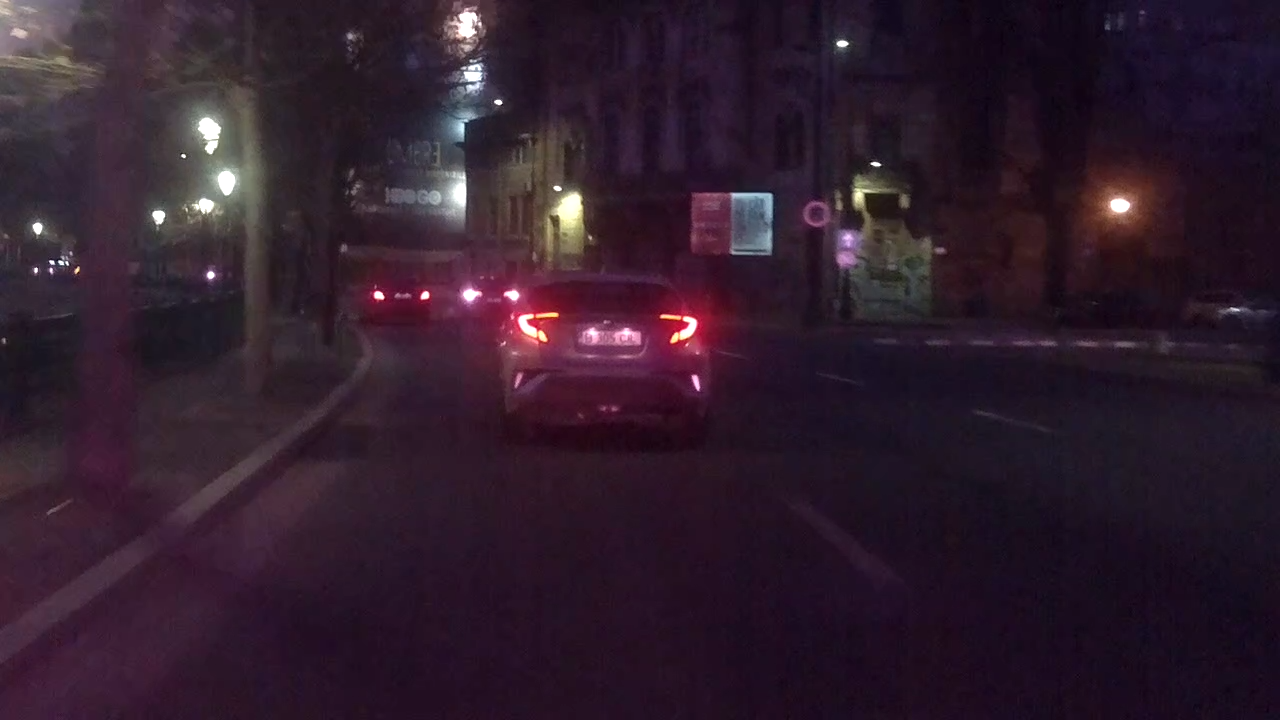license-plate: (570, 328, 644, 349)
